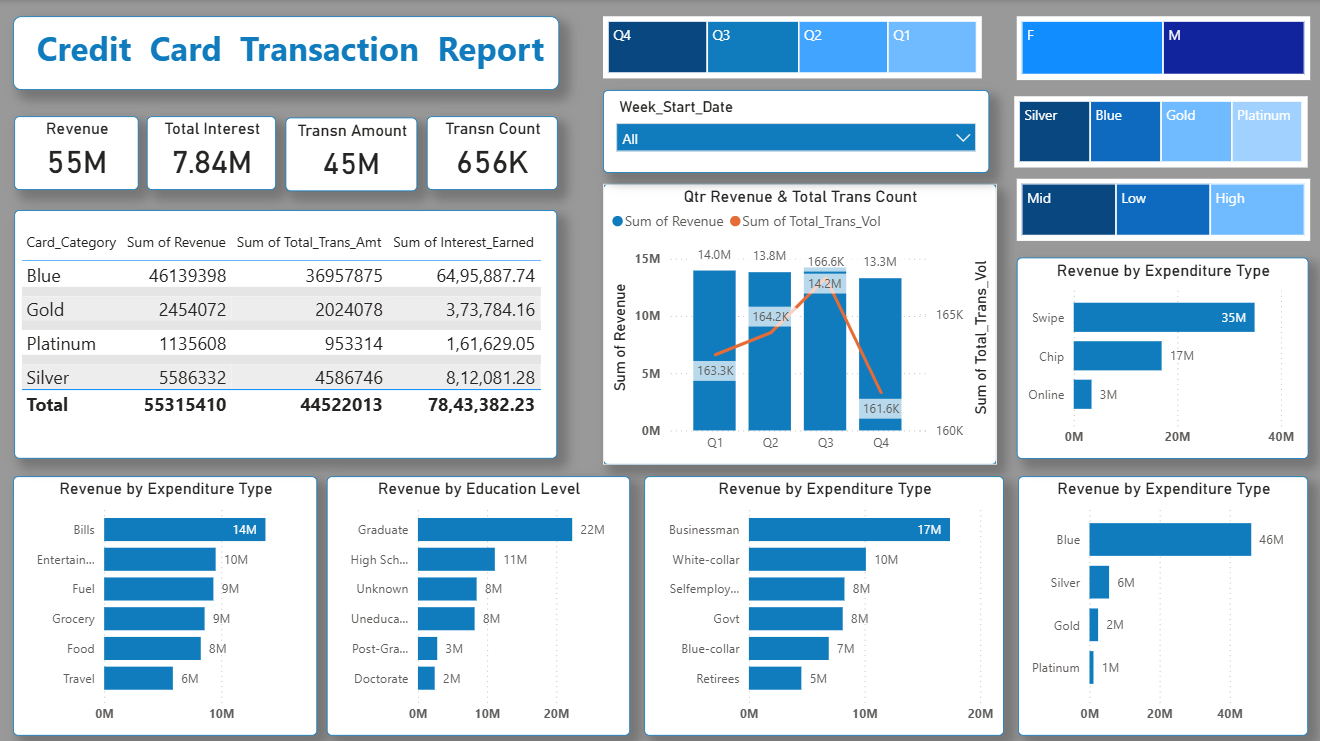

This screenshot's page, from the dashboard's own definition file:
{"tool":"powerbi","page":{"name":"Credit C Trans","canvas":[1280,720],"ordinal":0},"visuals":[{"type":"textbox","box":[14.3,15.7,527.1,71.4],"z":0},{"type":"lineStackedColumnComboChart","title":"Qtr Revenue & Total Trans Count","fields":{"Category":["ccdb cc_details.Qtr"],"Y":["Sum(ccdb cc_details.Revenue)"],"Y2":["Sum(ccdb cc_details.Total_Trans_Vol)"]},"box":[584.3,177.1,380,271.4],"z":1000},{"type":"barChart","title":"Revenue by Expenditure Type","fields":{"Y":["Sum(ccdb cc_details.Revenue)"],"Category":["ccdb cc_details.Exp Type"]},"box":[14.3,459.4,293.8,250],"z":2000},{"type":"barChart","title":"Revenue by Education Level","fields":{"Y":["Sum(ccdb cc_details.Revenue)"],"Category":["ccdb cust_details.Education_Level"]},"box":[316.8,459.4,292.5,250],"z":3000},{"type":"barChart","title":"Revenue by Expenditure Type","fields":{"Y":["Sum(ccdb cc_details.Revenue)"],"Category":["ccdb cust_details.Customer_Job"]},"box":[624.3,459.4,347.5,250],"z":4000},{"type":"barChart","title":"Revenue by Expenditure Type","fields":{"Y":["Sum(ccdb cc_details.Revenue)"],"Category":["ccdb cc_details.Card_Category"]},"box":[984.3,459.4,280,250],"z":5000},{"type":"barChart","title":"Revenue by Expenditure Type","fields":{"Y":["Sum(ccdb cc_details.Revenue)"],"Category":["ccdb cc_details.Use Chip"]},"box":[982.9,248.6,281.4,194.3],"z":6000},{"type":"tableEx","fields":{"Values":["ccdb cc_details.Card_Category","Sum(ccdb cc_details.Revenue)","Sum(ccdb cc_details.Total_Trans_Amt)","Sum(ccdb cc_details.Interest_Earned)"]},"box":[15.7,202.9,524.3,240],"z":7000},{"type":"card","title":"Revenue","fields":{"Values":["Sum(ccdb cc_details.Revenue)"]},"box":[15.5,112.4,120,71.2],"z":8000},{"type":"card","title":"Total Interest ","fields":{"Values":["Sum(ccdb cc_details.Interest_Earned)"]},"box":[143,112.4,125,71.2],"z":9000},{"type":"card","title":"Transn Amount","fields":{"Values":["Sum(ccdb cc_details.Total_Trans_Amt)"]},"box":[278,113.7,127.5,71.2],"z":10000},{"type":"card","title":"Transn Count","fields":{"Values":["Sum(ccdb cc_details.Total_Trans_Vol)"]},"box":[414.3,112.4,126.2,71.2],"z":11000},{"type":"slicer","fields":{"Values":["ccdb cc_details.Week_Start_Date"]},"box":[584.3,87.1,372.9,80],"z":12000},{"type":"treemap","fields":{"Group":["ccdb cust_details.Gender"],"Values":["Avg(ccdb cc_details.Client_Num)"]},"box":[982.9,15.7,282.9,61.4],"z":13000},{"type":"treemap","fields":{"Group":["ccdb cc_details.Qtr"],"Values":["Avg(ccdb cc_details.Client_Num)"]},"box":[584.3,15.7,365.7,60],"z":14000},{"type":"treemap","fields":{"Group":["ccdb cc_details.Card_Category"],"Values":["Avg(ccdb cc_details.Client_Num)"]},"box":[981.4,92.9,282.9,68.6],"z":15000},{"type":"treemap","fields":{"Group":["ccdb cust_details.IncomeGroup"],"Values":["Avg(ccdb cc_details.Client_Num)"]},"box":[982.9,172.9,282.9,60],"z":16000}]}

Visuals, with their boxes in screenshot pixels (x1, y1, x2, y2), scaled from the page's 1280x720 canvas onto the 1320x741 screenshot:
textbox: box(15, 16, 558, 90)
"Qtr Revenue & Total Trans Count" lineStackedColumnComboChart: box(603, 182, 994, 462)
"Revenue by Expenditure Type" barChart: box(15, 473, 318, 730)
"Revenue by Education Level" barChart: box(327, 473, 628, 730)
"Revenue by Expenditure Type" barChart: box(644, 473, 1002, 730)
"Revenue by Expenditure Type" barChart: box(1015, 473, 1304, 730)
"Revenue by Expenditure Type" barChart: box(1014, 256, 1304, 456)
tableEx - ccdb cc_details.Card_Category x Sum(ccdb cc_details.Revenue): box(16, 209, 557, 456)
"Revenue" card: box(16, 116, 140, 189)
"Total Interest " card: box(147, 116, 276, 189)
"Transn Amount" card: box(287, 117, 418, 190)
"Transn Count" card: box(427, 116, 557, 189)
slicer - ccdb cc_details.Week_Start_Date: box(603, 90, 987, 172)
treemap - ccdb cust_details.Gender x Avg(ccdb cc_details.Client_Num): box(1014, 16, 1305, 79)
treemap - ccdb cc_details.Qtr x Avg(ccdb cc_details.Client_Num): box(603, 16, 980, 78)
treemap - ccdb cc_details.Card_Category x Avg(ccdb cc_details.Client_Num): box(1012, 96, 1304, 166)
treemap - ccdb cust_details.IncomeGroup x Avg(ccdb cc_details.Client_Num): box(1014, 178, 1305, 240)
